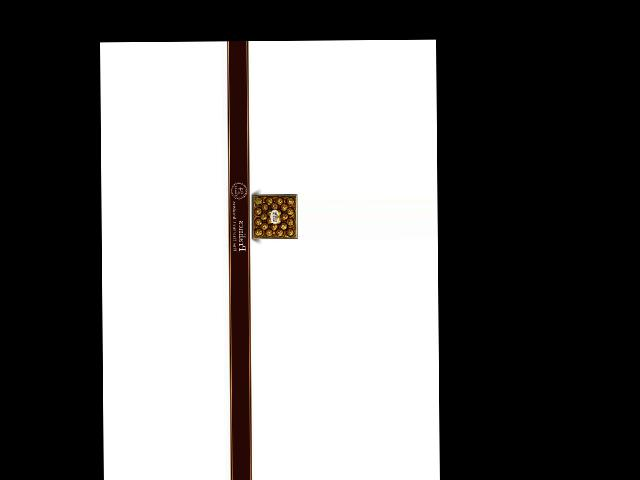chocolate: (249, 191, 300, 241)
